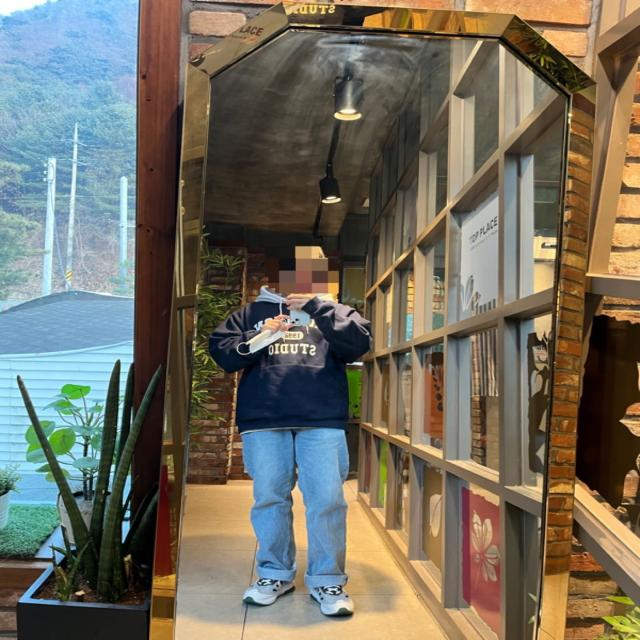denimpants: (245, 428, 351, 589)
hoodies: (207, 287, 371, 429)
